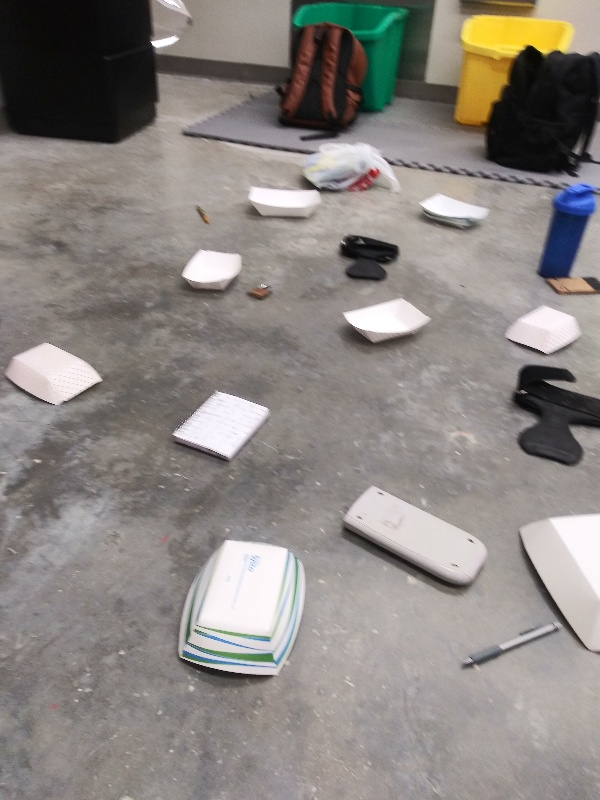plate: (171, 536, 312, 682), (512, 508, 600, 659), (1, 339, 104, 409), (338, 295, 434, 349), (500, 303, 585, 359), (177, 244, 244, 296), (414, 190, 495, 231), (244, 183, 326, 220)
